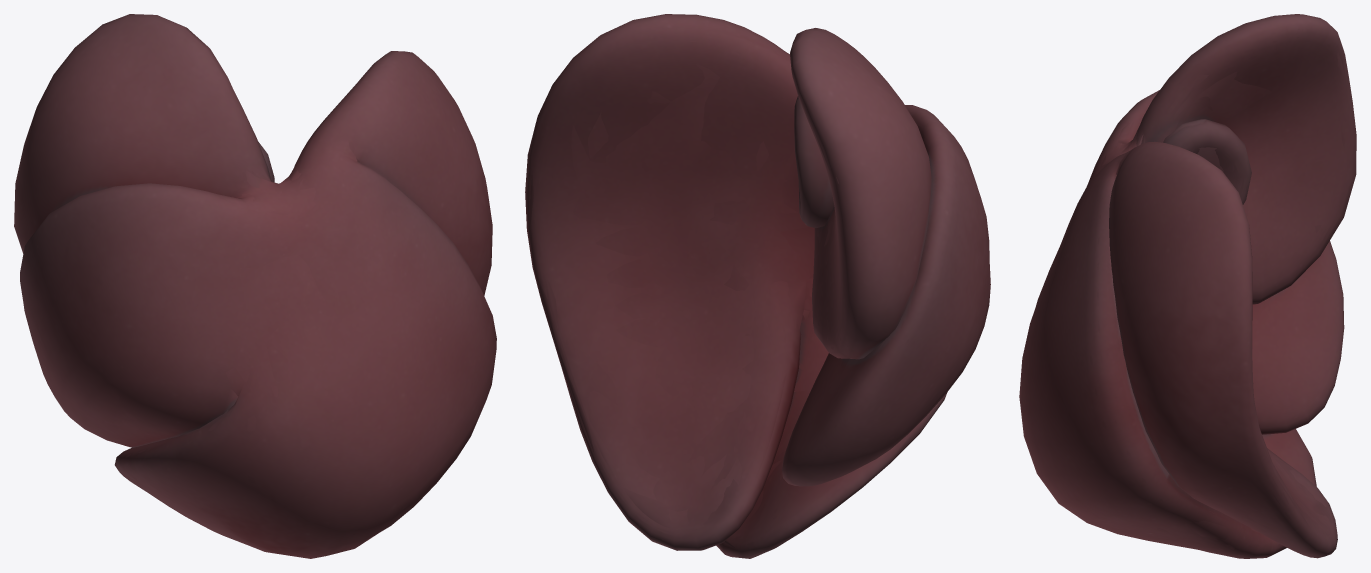
File: Liver.fbx
3 views of the same model, side by side, from view 1: azimuth 30°, elevation 25°; view 2: azimuth 150°, elevation 25°; view 3: azimuth 270°, elevation 25° (orthographic). The views are drawn at different scales.
Visible parts, largest first — view 1: Liver, Liver high, Liver low; view 2: Liver, Liver low, Liver high; view 3: Liver, Liver high, Liver low.
Boxes of the visible parts, x1=… form: Liver: x1=14, y1=14, x2=496, y2=558; Liver high: x1=20, y1=16, x2=494, y2=548; Liver low: x1=219, y1=140, x2=373, y2=405; Liver: x1=525, y1=14, x2=990, y2=558; Liver low: x1=530, y1=41, x2=919, y2=547; Liver high: x1=528, y1=17, x2=989, y2=557; Liver: x1=1019, y1=14, x2=1356, y2=558; Liver high: x1=1021, y1=16, x2=1353, y2=557; Liver low: x1=1054, y1=52, x2=1349, y2=553.
Size of the model in its own units: 16.7 by 19.51 by 11.97.
Materials: 1 (1 with a texture image).
